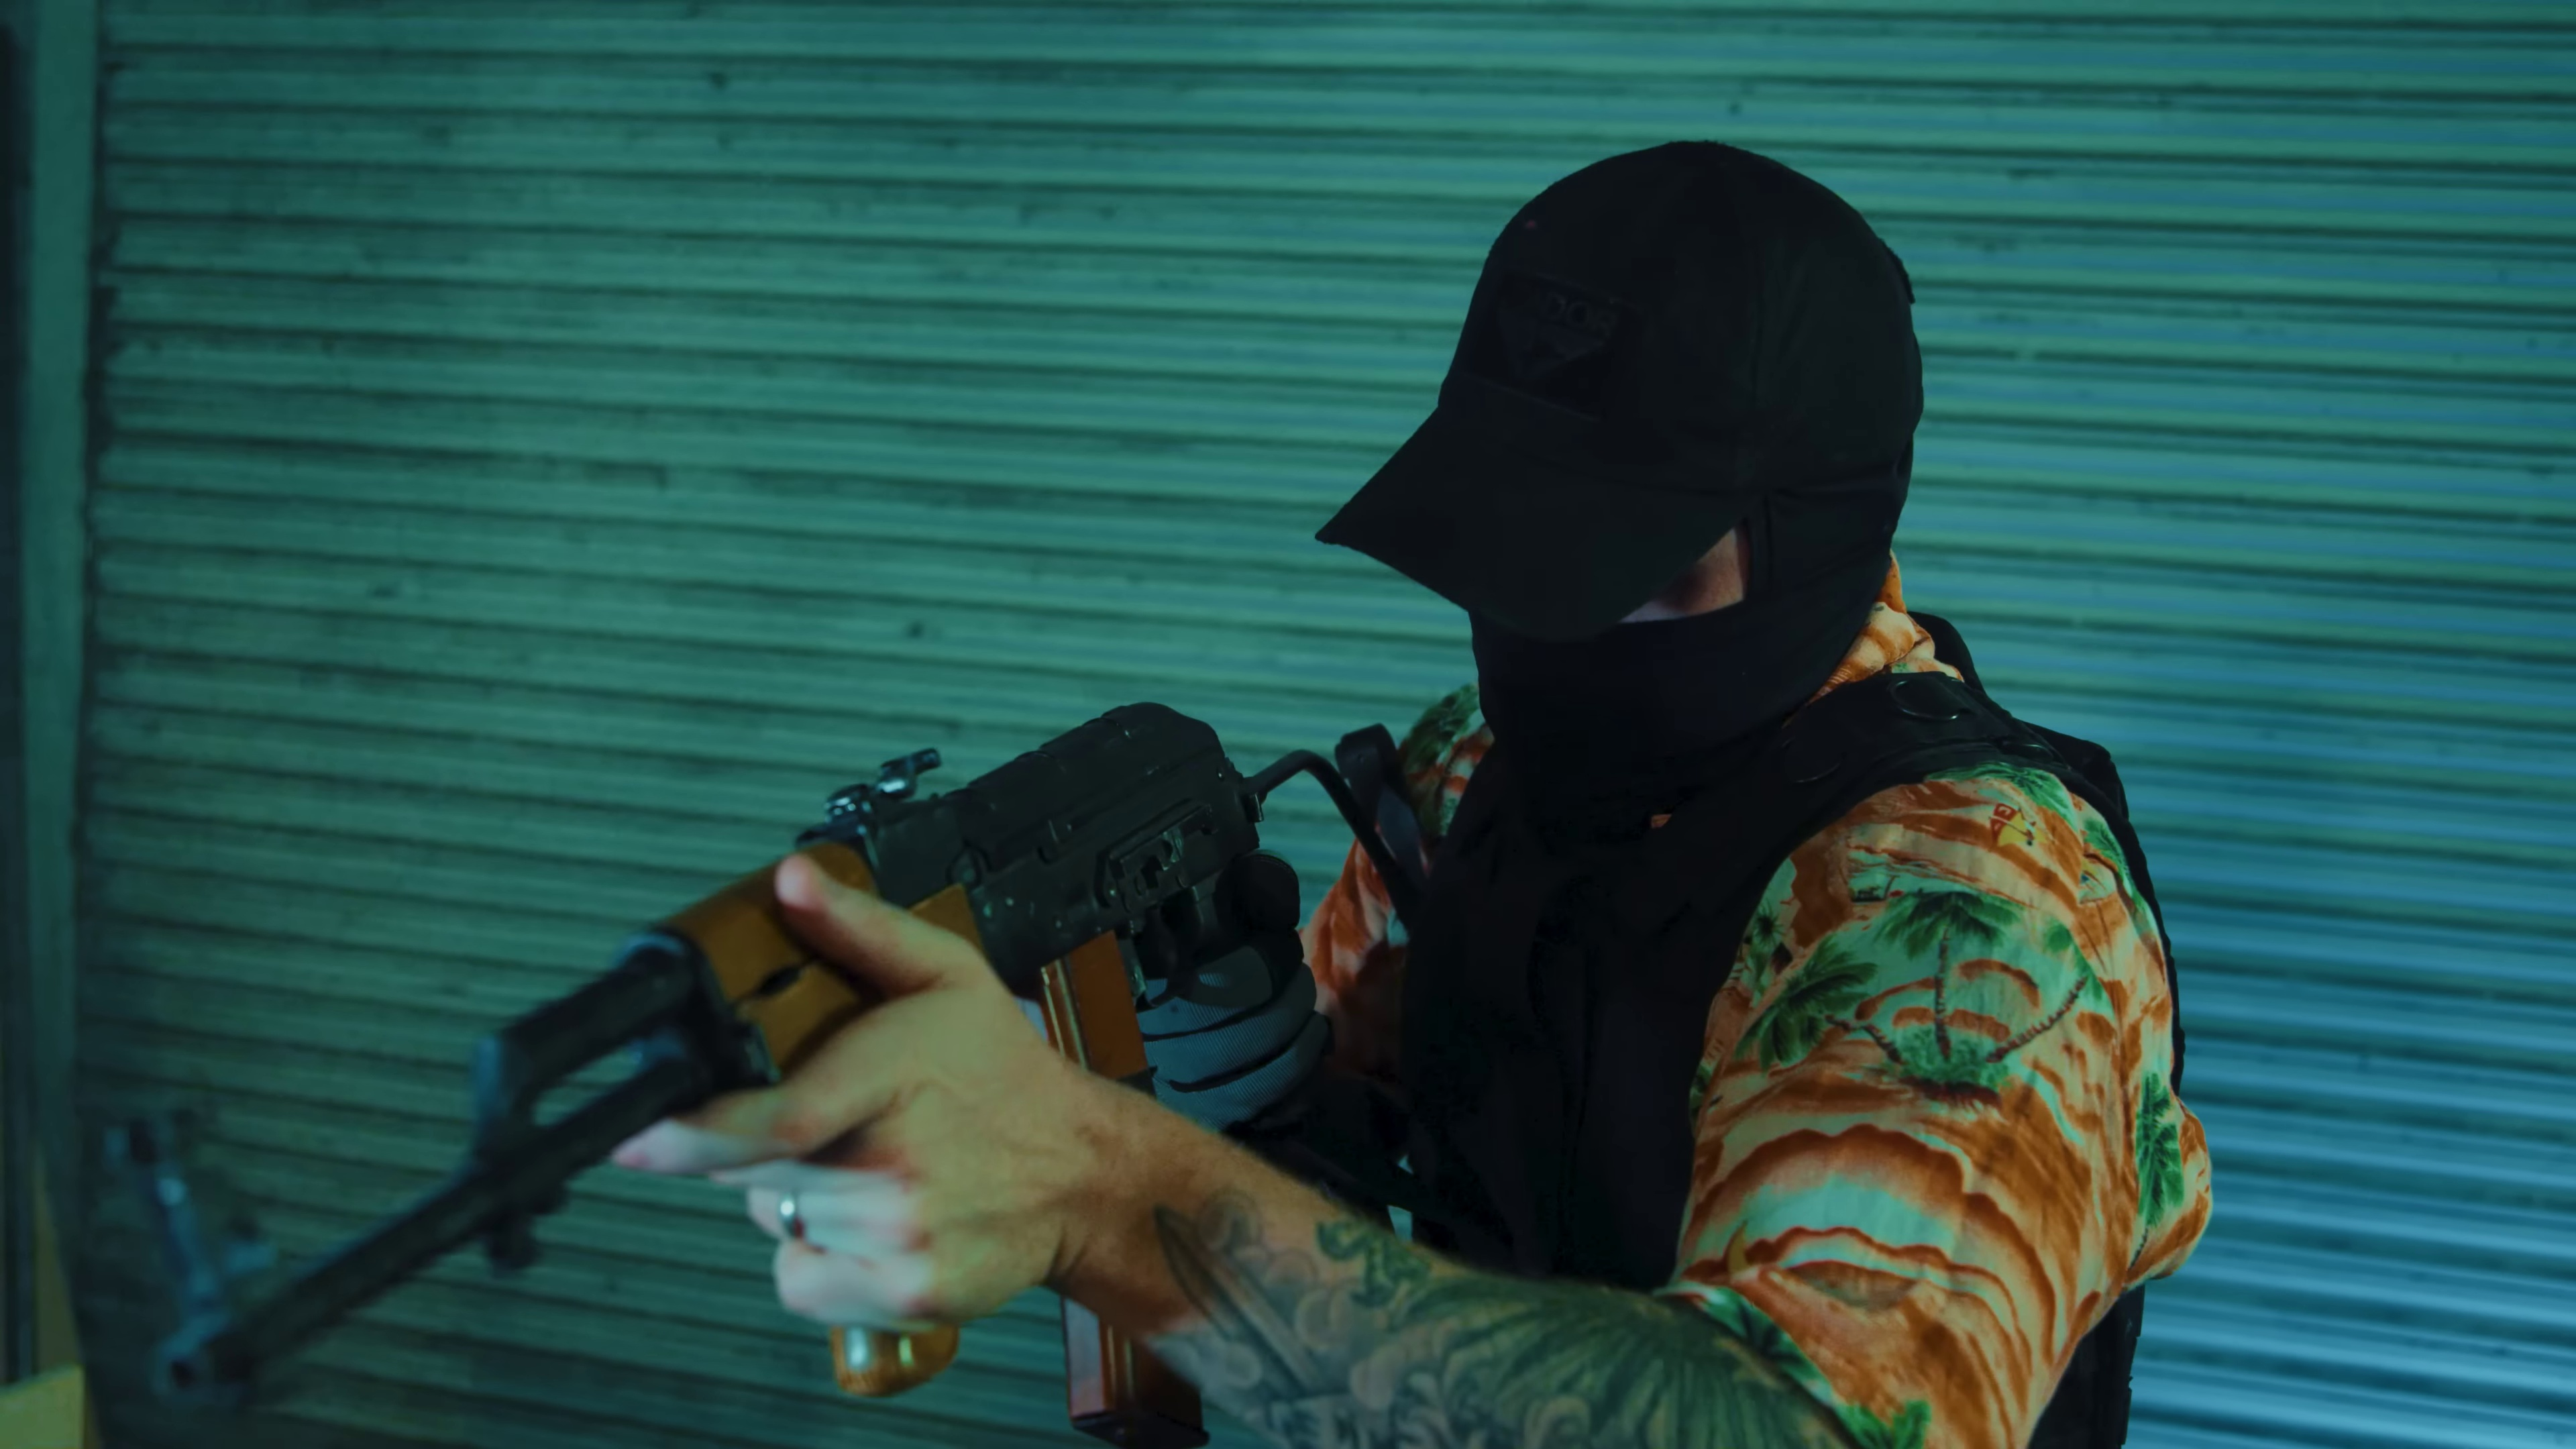gun: (99, 686, 1479, 1449)
p_w_gun: (99, 122, 2226, 1449)
